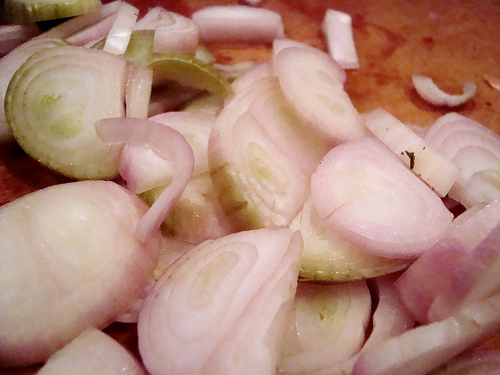onion: (3, 3, 499, 374)
